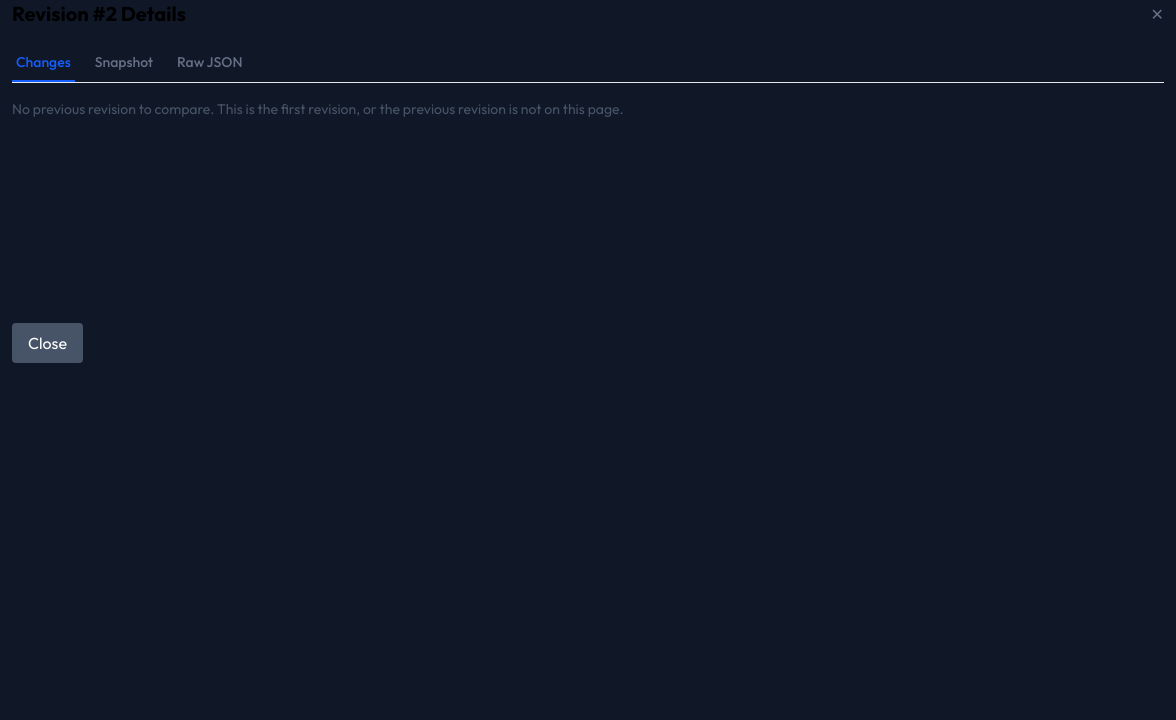
it: RevisionDetailsTabs › switches to Snapshot tab and shows FilledSheetViewer layout (no action buttons)
Click the button "Snapshot" at {"x": 124, "y": 63}, box [91,44,157,82]
(page scrolled)
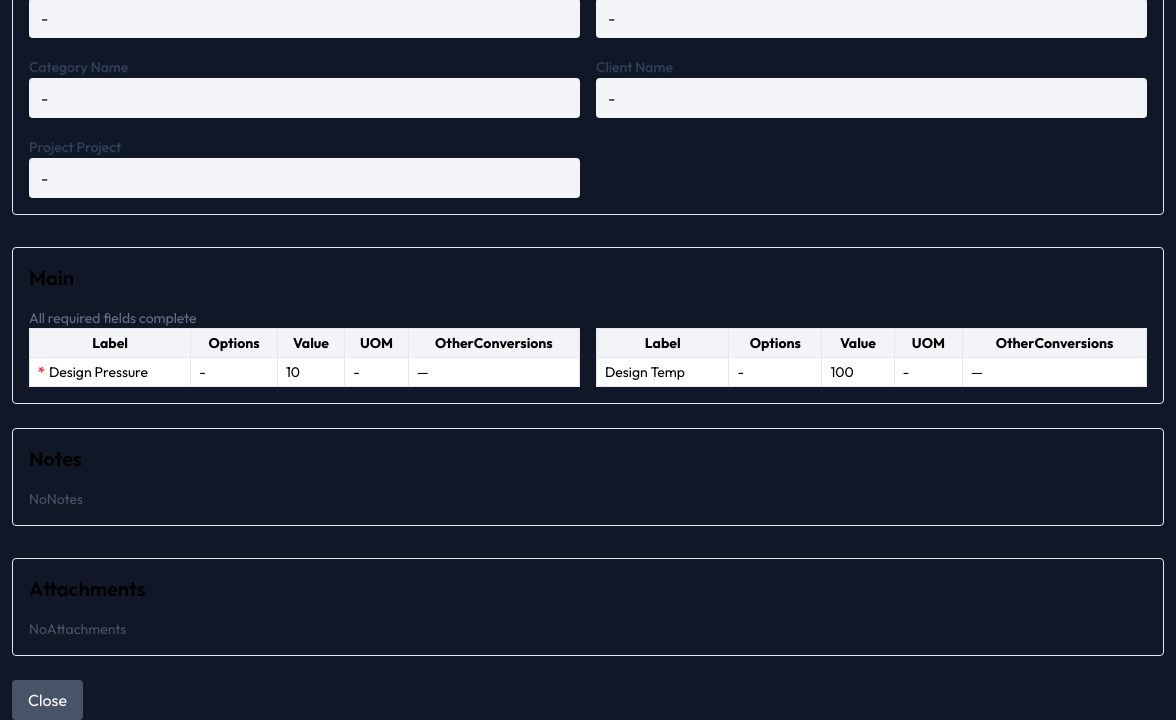
Now the text "Main" is shown, box [29,265,74,290]
Now the text "Design Pressure" is shown, box [49,363,148,381]
